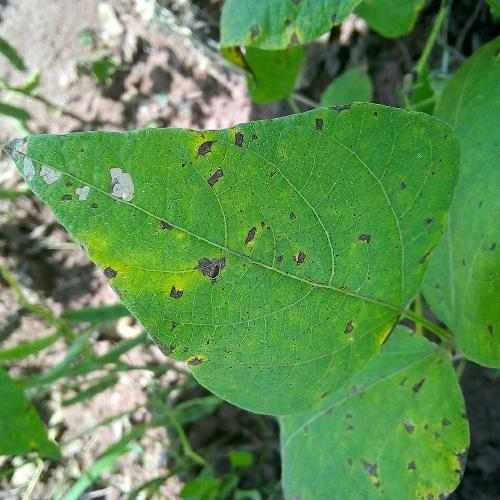hawar: (8, 88, 454, 336)
